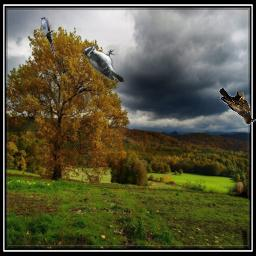Crow: (219, 86, 256, 126)
Cuckoo: (41, 16, 55, 56)
Woodpecker: (84, 45, 124, 82)
